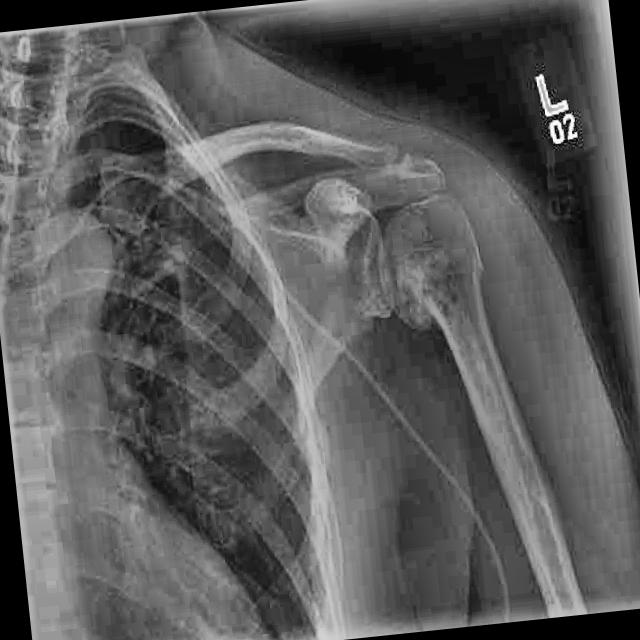shoulder fracture: (455, 247, 503, 306)
